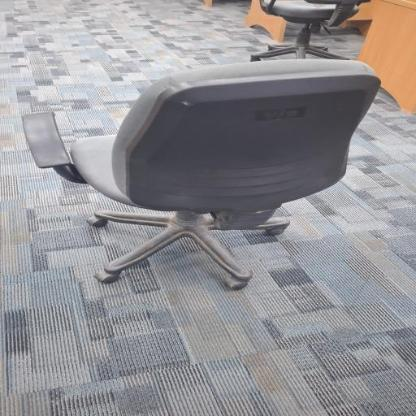chair: (15, 51, 391, 302)
